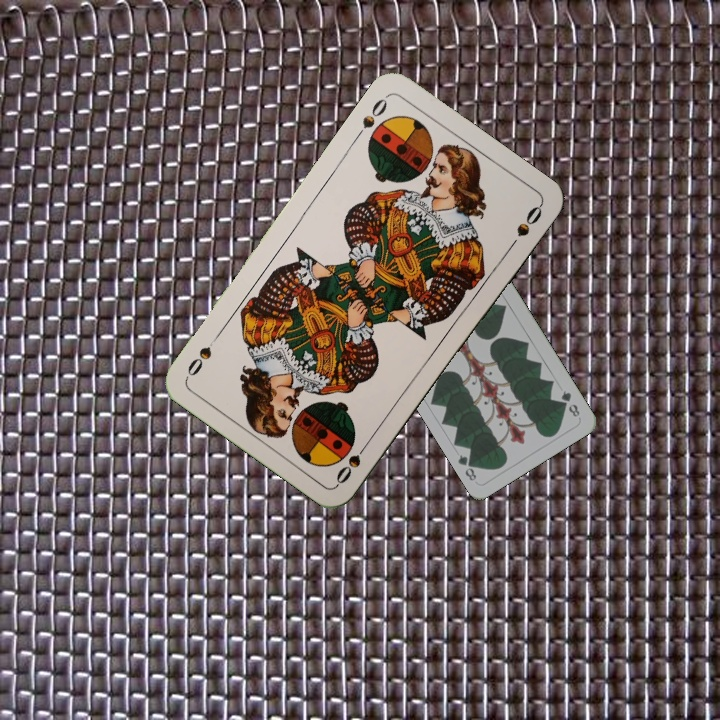G8: (557, 386, 582, 420)
SO: (331, 435, 373, 487), (350, 91, 391, 143)
